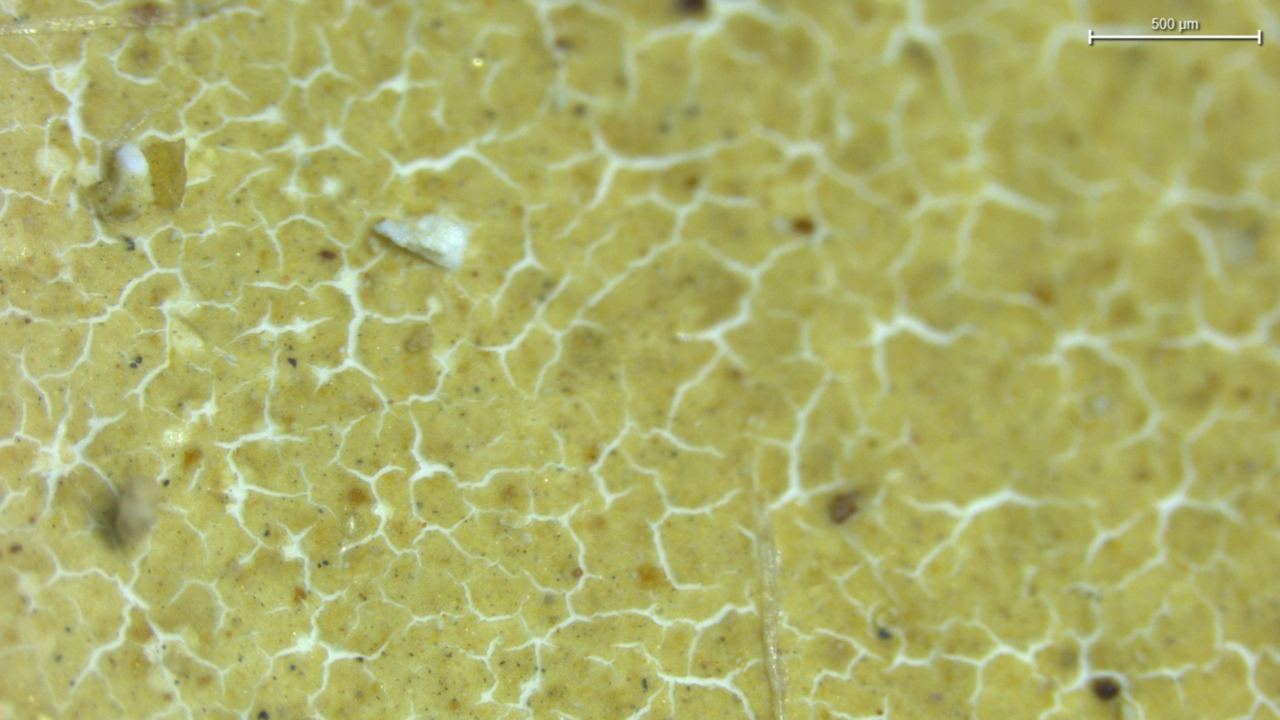microplastic_fragment: (373, 214, 469, 269), (114, 478, 159, 548)
